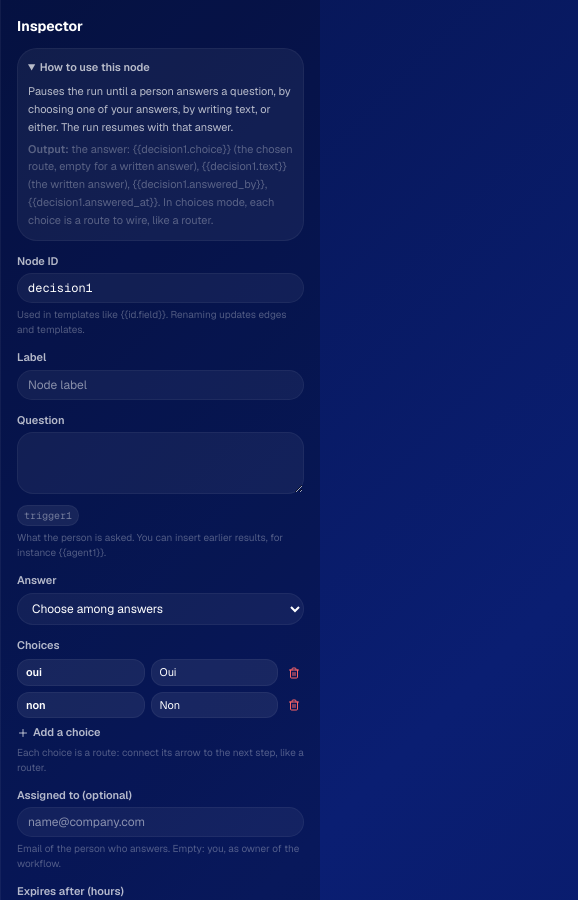
ApprovalInspector › text mode hides the choices; both shows them with the text-route hint
Check: the text "“text” route" is not shown
Select "Choice or written answer" in the dropdown labelled "Answer" at (160, 609), box [17, 593, 304, 625]
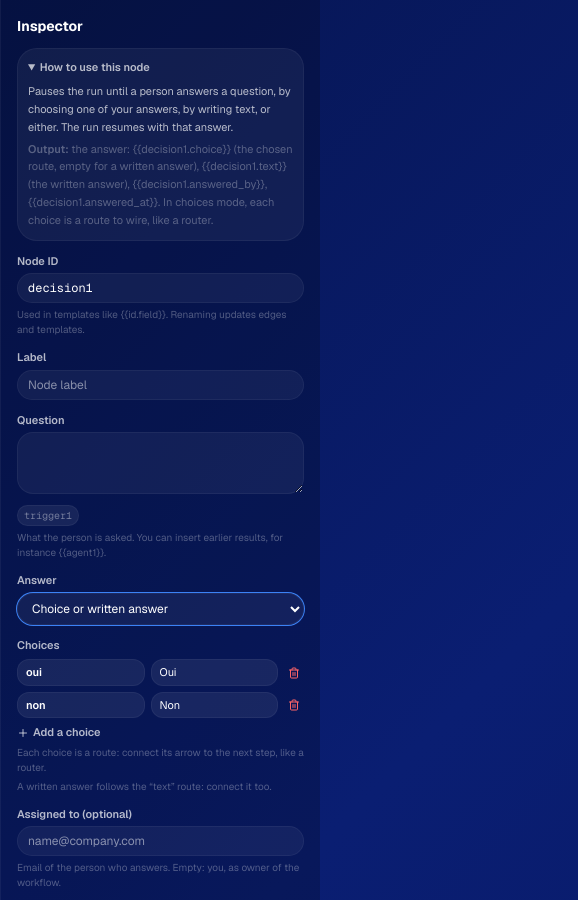
Check: the number of fields named "Route" is 2, box [17, 659, 144, 686]; [17, 692, 144, 718]
Check: the text "A written answer follows the “text” route: connect it too." is shown, box [17, 779, 304, 794]
Select "Written answer" in the dropdown labelled "Answer" at (160, 609), box [17, 593, 304, 625]
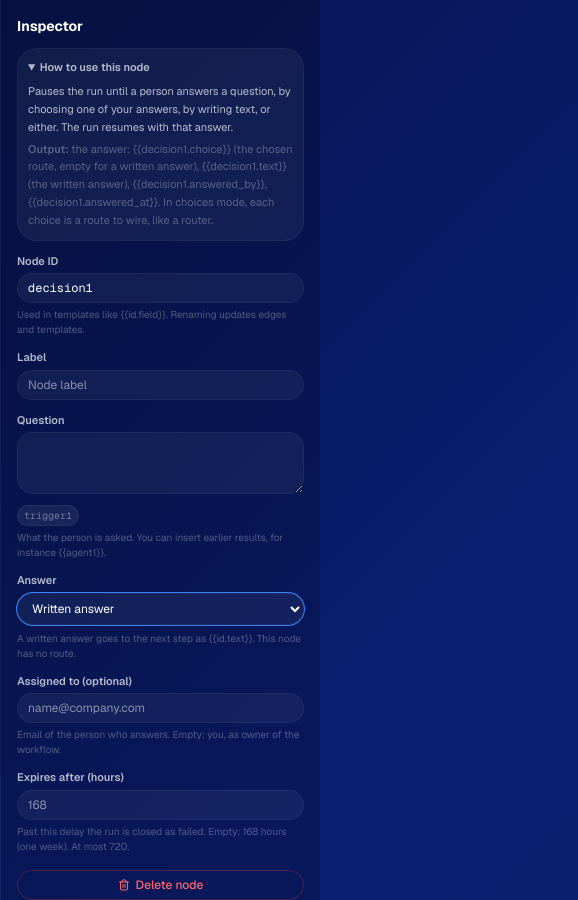
Check: the button "Add a choice" is gone
